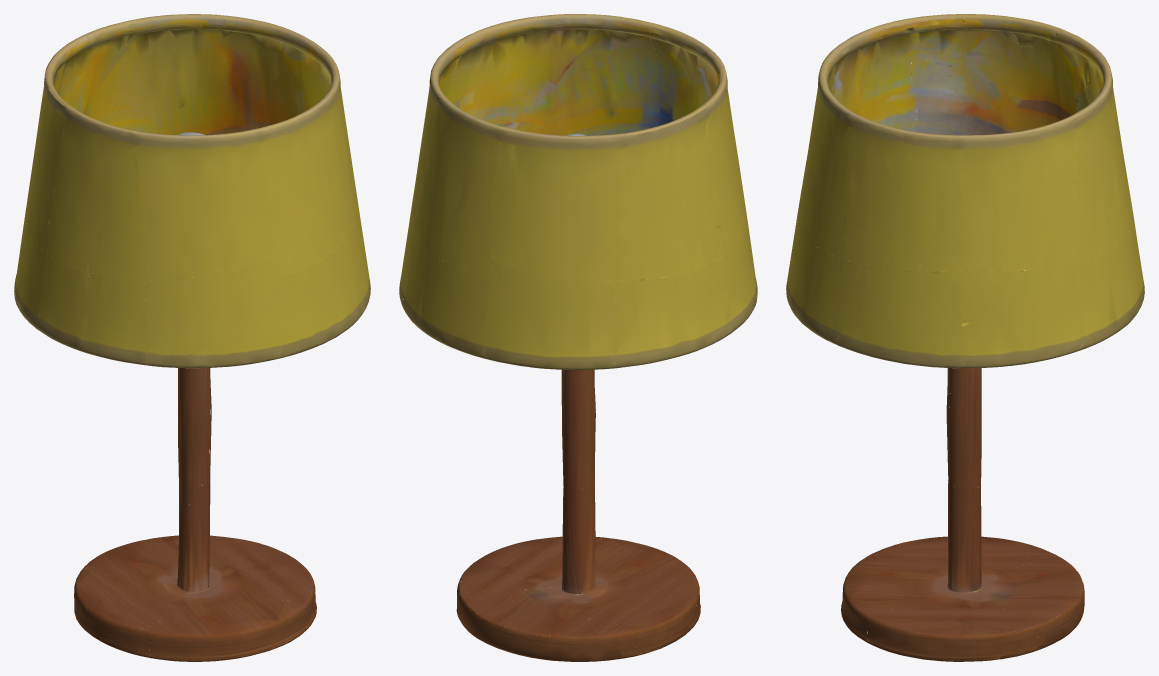
The model's file is Lamp5.glb.
The picture shows the model from 3 angles, left to right: view 1: azimuth 30°, elevation 25°; view 2: azimuth 150°, elevation 25°; view 3: azimuth 270°, elevation 25°; orthographic projection.
Visible parts, largest first — view 1: tripo_node_d72f64fa-b876-4cdb-803e-0d170ed504b8; view 2: tripo_node_d72f64fa-b876-4cdb-803e-0d170ed504b8; view 3: tripo_node_d72f64fa-b876-4cdb-803e-0d170ed504b8.
Part boxes in pixels (bbox=[...]): tripo_node_d72f64fa-b876-4cdb-803e-0d170ed504b8: bbox=[14, 14, 370, 661]; tripo_node_d72f64fa-b876-4cdb-803e-0d170ed504b8: bbox=[399, 14, 757, 661]; tripo_node_d72f64fa-b876-4cdb-803e-0d170ed504b8: bbox=[786, 14, 1144, 661].
Size of the model in its own units: 0.6011 by 1 by 0.6034.
1 material, 1 textured.
